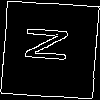N: (25, 25, 79, 64)
